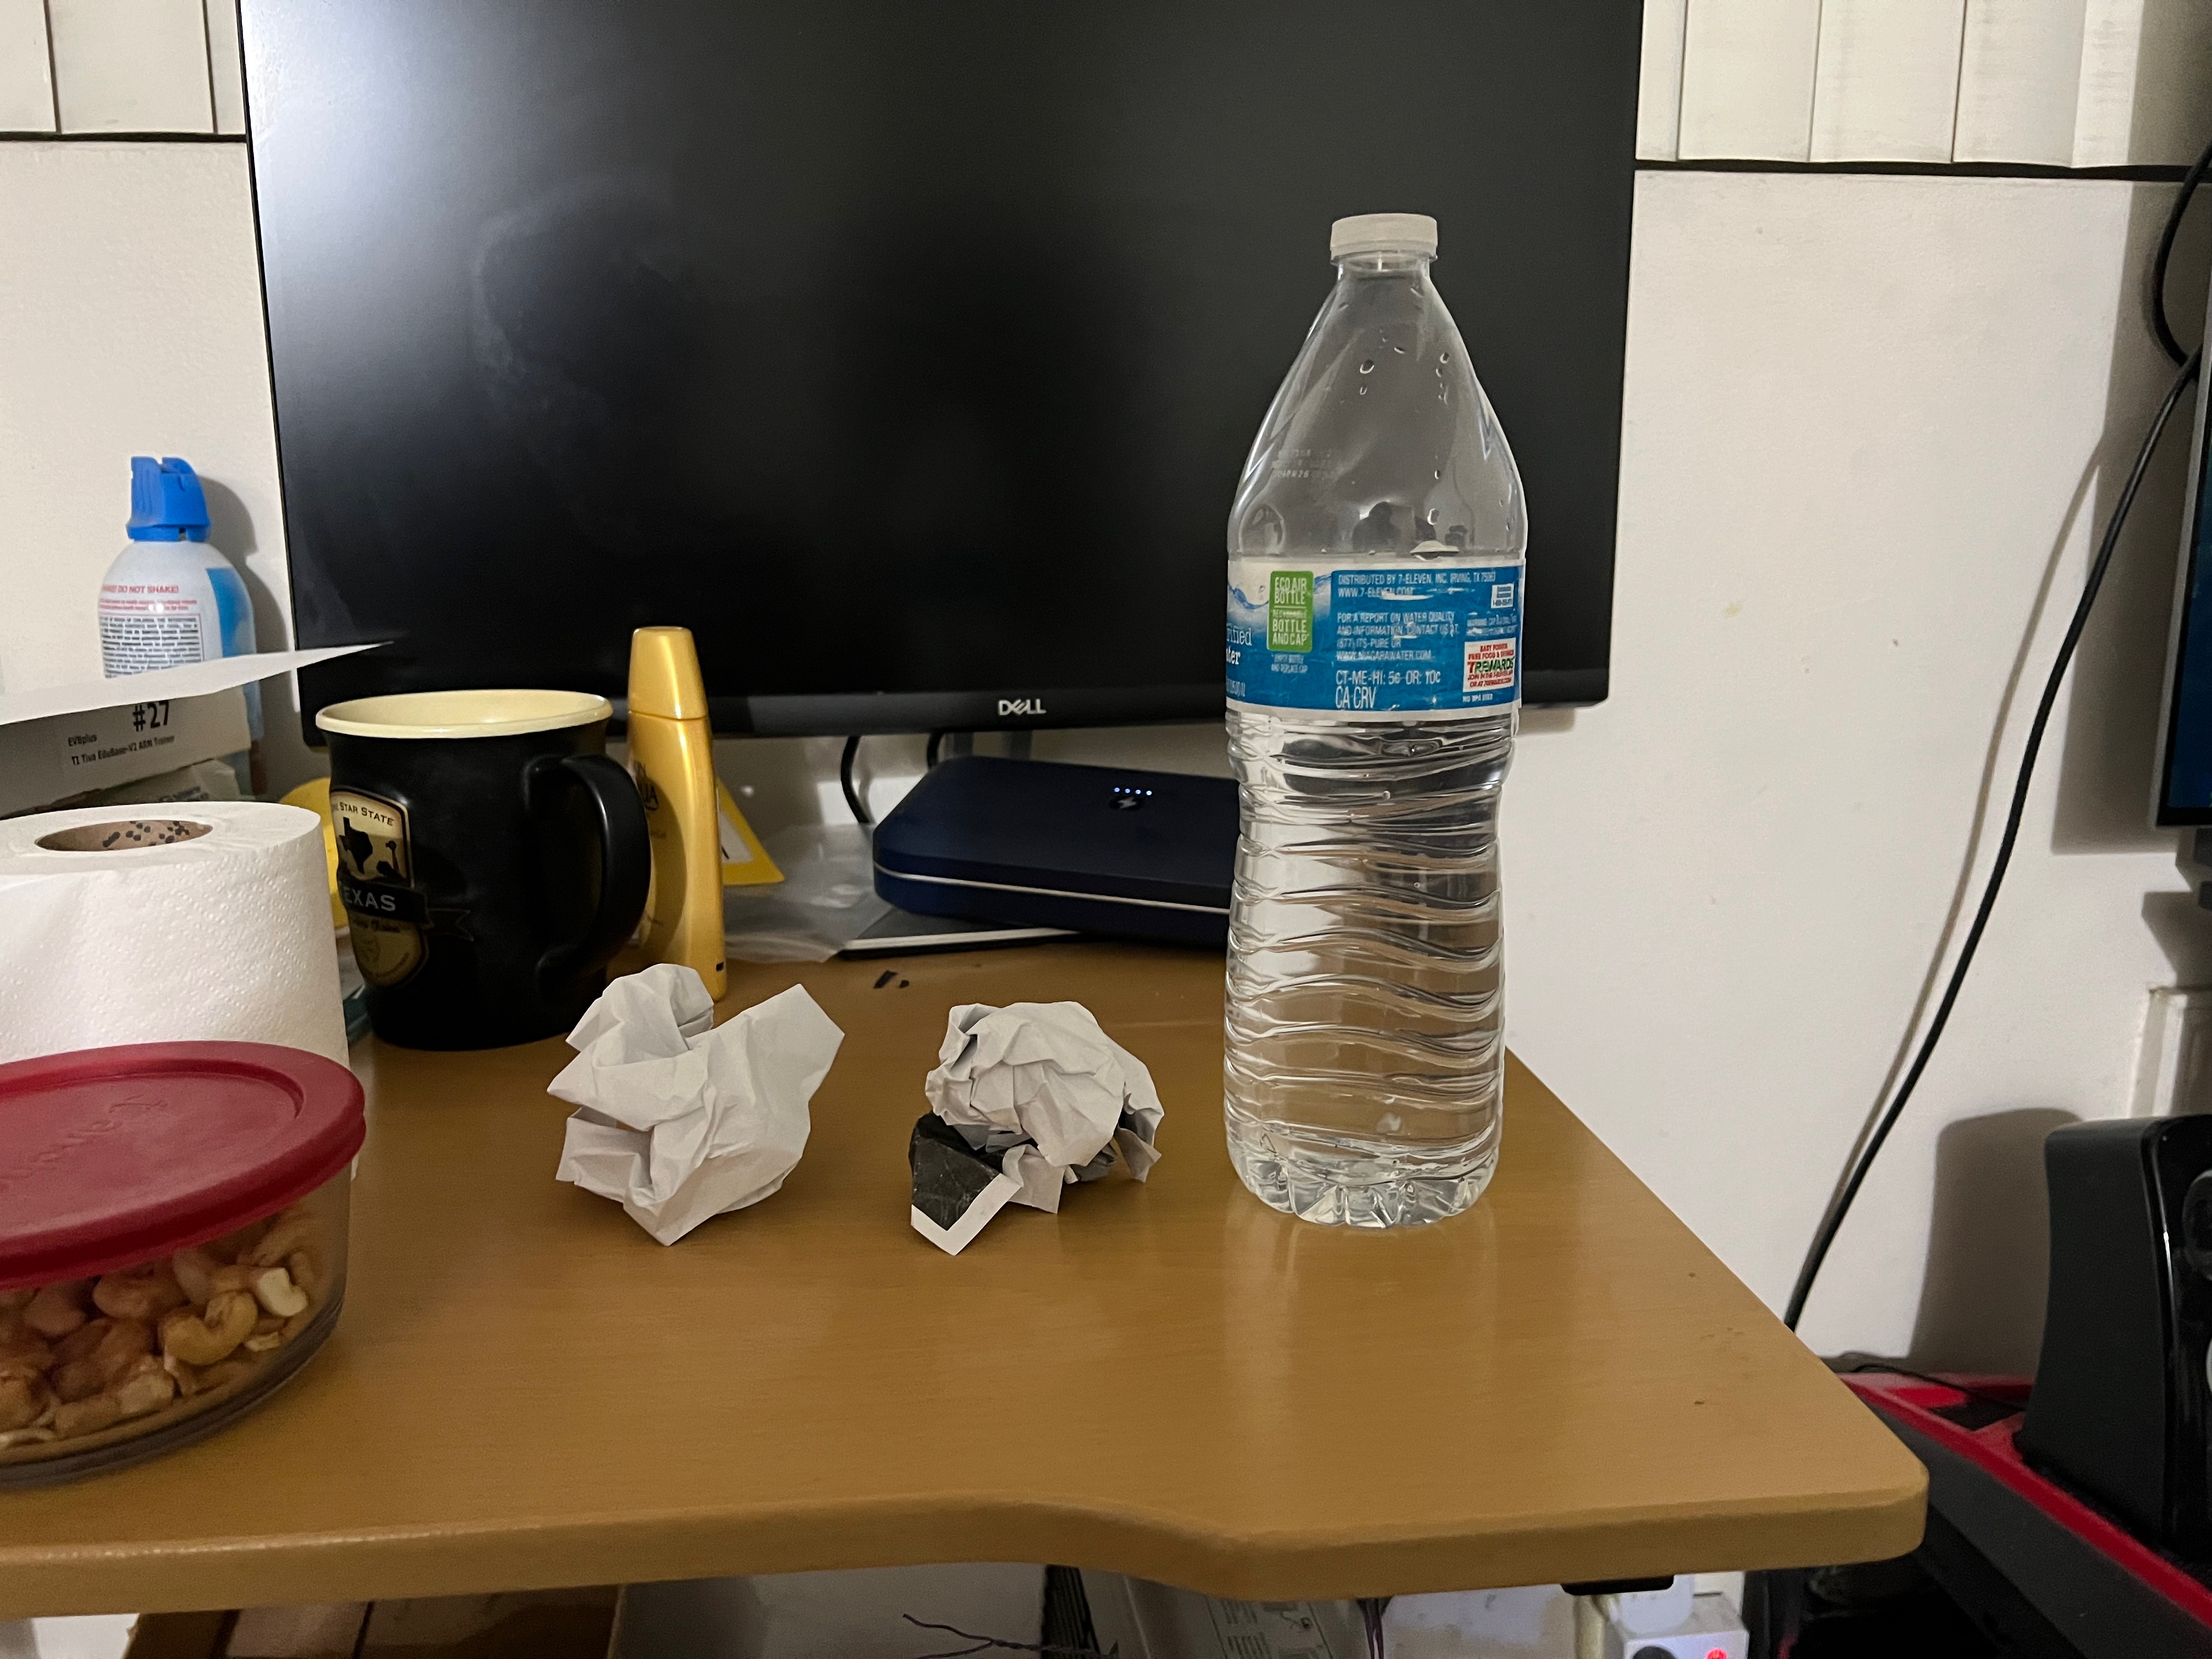trash bottle: (1214, 195, 1540, 1253)
trash paper: (540, 953, 860, 1262), (899, 985, 1179, 1295)
